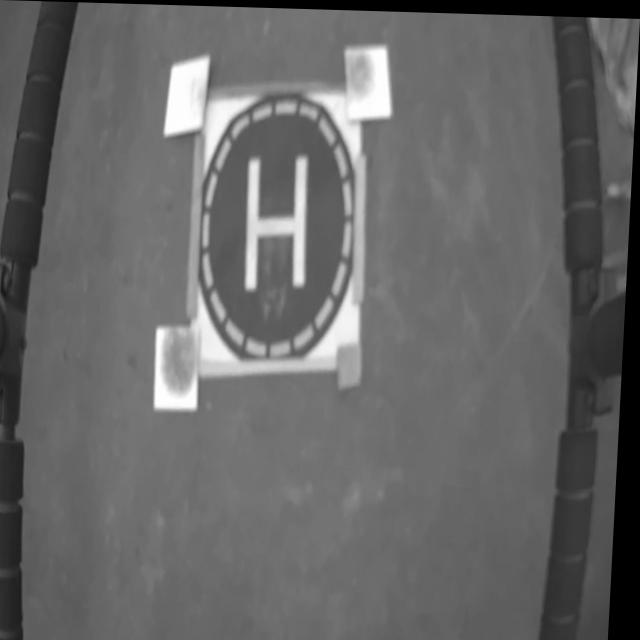Helipad: (246, 150, 311, 293)
